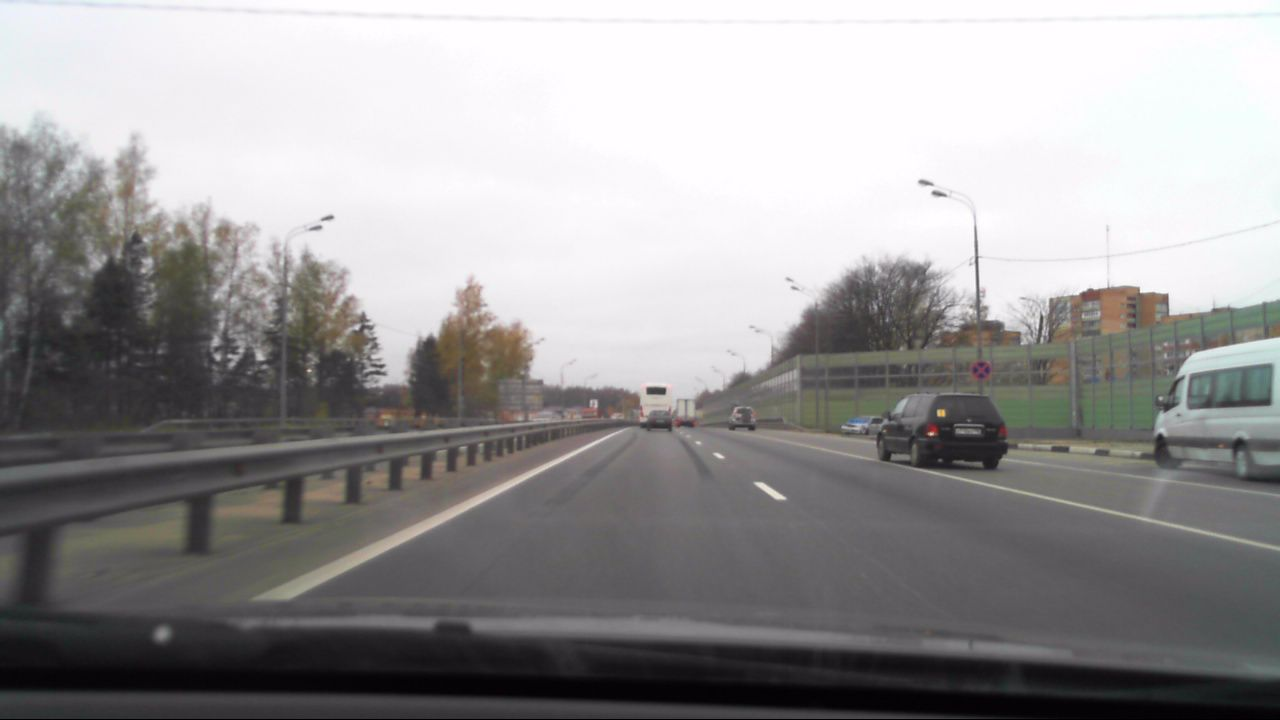No Parking: (971, 359, 990, 379)
